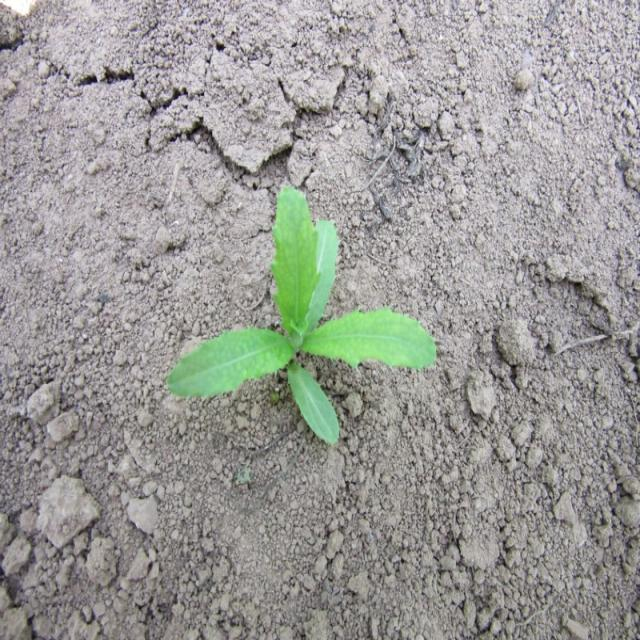field_thistle: (158, 181, 422, 449)
